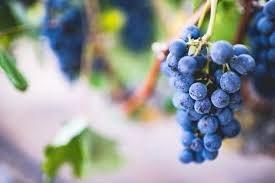Black grapes: (167, 26, 254, 170)
